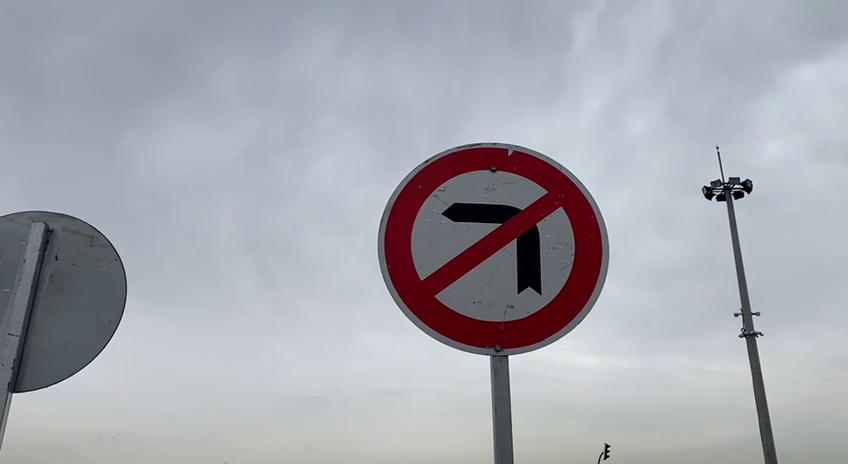noTurnLeft: (373, 138, 614, 361)
